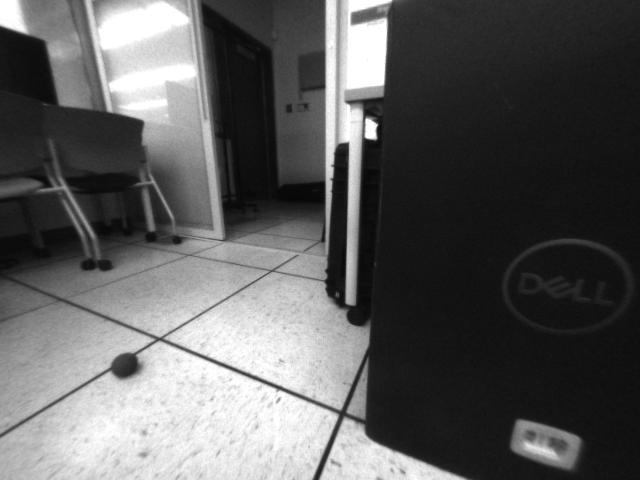dogtoy: (104, 347, 146, 381)
